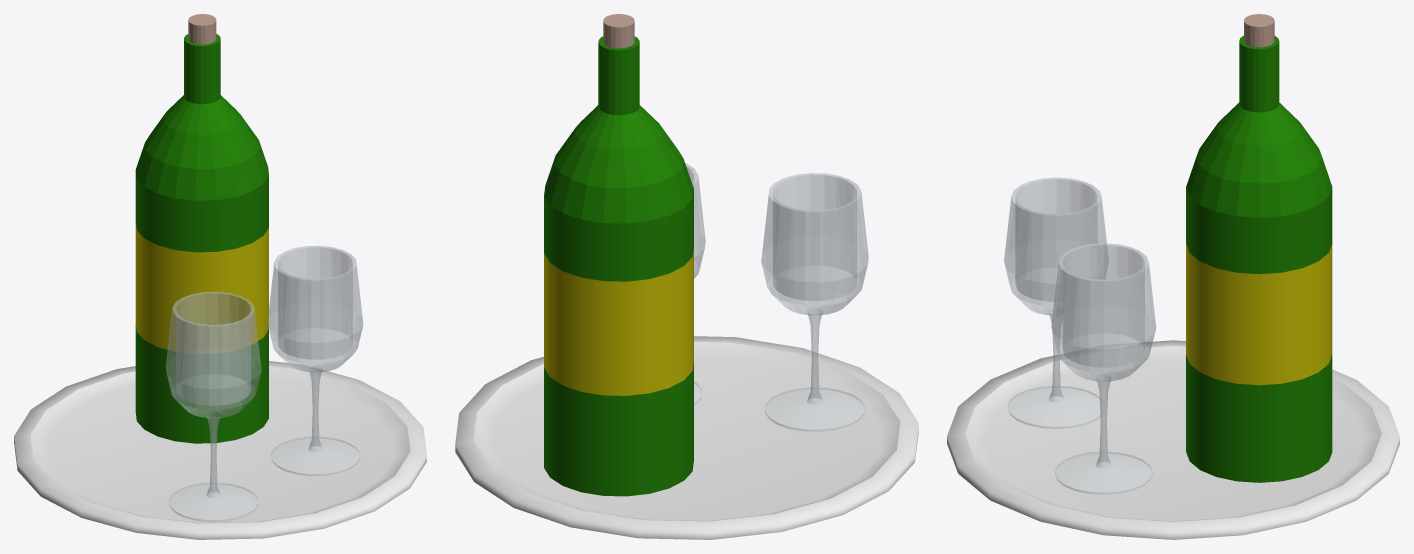
The model's file is WINEPLATE2.fbx.
3 views of the same model, side by side, from view 1: azimuth 30°, elevation 25°; view 2: azimuth 150°, elevation 25°; view 3: azimuth 270°, elevation 25° (orthographic). The views are drawn at different scales.
Parts seen in each view (by area): view 1: pCylinder1, pCylinder2, pCylinder4, pCylinder5; view 2: pCylinder2, pCylinder1, pCylinder5, pCylinder4; view 3: pCylinder2, pCylinder1, pCylinder4, pCylinder5.
Boxes of the visible parts, x1,y1,x2,y2 form: pCylinder1: (14, 361, 426, 539); pCylinder2: (135, 14, 268, 443); pCylinder4: (267, 245, 363, 475); pCylinder5: (166, 291, 261, 521); pCylinder2: (544, 14, 693, 496); pCylinder1: (455, 336, 918, 539); pCylinder5: (761, 173, 868, 431); pCylinder4: (685, 163, 705, 405); pCylinder2: (1186, 14, 1332, 482); pCylinder1: (947, 340, 1399, 539); pCylinder4: (1051, 243, 1156, 494); pCylinder5: (1004, 177, 1108, 428).
Bounding box in the file's own units: 2 × 2.12 × 2.
